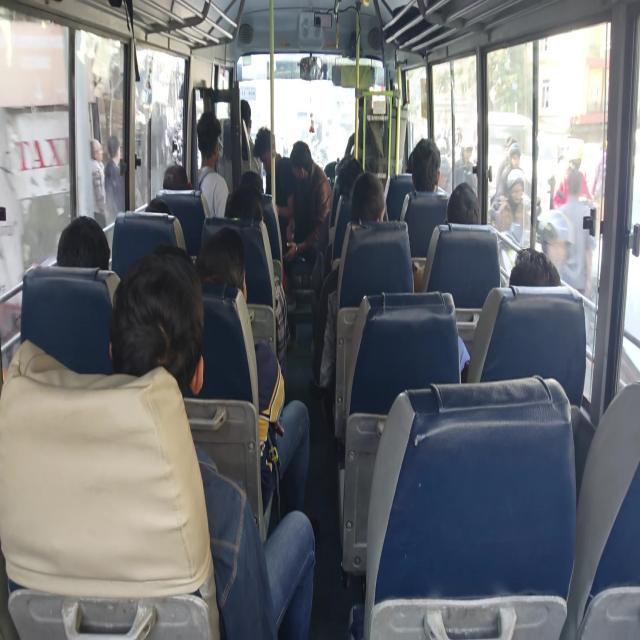person: (109, 244, 316, 638), (195, 225, 310, 518), (317, 171, 387, 388), (459, 247, 561, 381), (282, 140, 332, 272), (557, 168, 594, 298), (252, 126, 295, 219), (196, 110, 229, 218), (56, 215, 110, 270), (552, 137, 593, 208), (536, 208, 572, 278), (498, 167, 531, 242), (509, 247, 561, 287), (407, 137, 443, 192), (240, 99, 263, 183), (104, 134, 124, 224), (445, 181, 481, 225), (496, 142, 522, 200), (90, 138, 106, 227), (162, 163, 189, 190)
